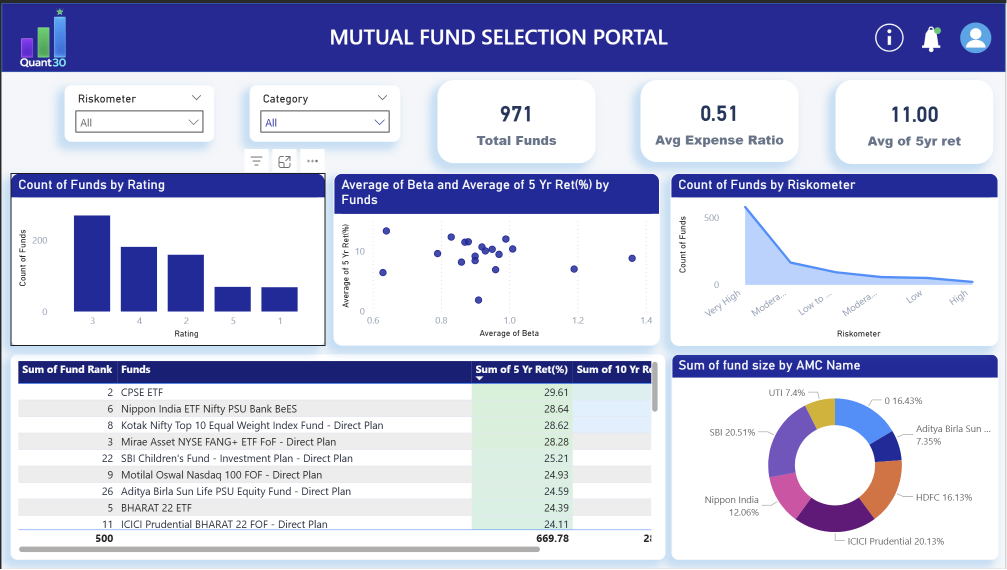

The dashboard page shown, as its layout file describes it:
{"tool":"powerbi","page":{"name":"Dashboard","canvas":[1280,720],"ordinal":0},"visuals":[{"type":"shape","box":[0,0,1280.3,88.2],"z":0},{"type":"image","box":[0,0,105.8,89.2],"z":1000},{"type":"card","fields":{"Values":["Measures (2).Total Funds"]},"box":[555.2,97.5,201.4,105.8],"z":2000},{"type":"card","fields":{"Values":["Measures (2).Avg of 5yr ret"]},"box":[1063,98,201,107],"z":3000},{"type":"card","fields":{"Values":["Measures (2).AVG Expense Ratio (%)"]},"box":[814,97.5,201.4,104.5],"z":4000},{"type":"donutChart","fields":{"Y":["Sum(Mutual_Funds.fund size)"],"Series":["Mutual_Funds.AMC Name"]},"box":[854.2,447.5,416.9,262.6],"z":5000},{"type":"stackedAreaChart","fields":{"Category":["Mutual_Funds.Riskometer"],"Y":["CountNonNull(Mutual_Funds.Funds)"]},"box":[852.9,216.7,418.2,220.6],"z":6000},{"type":"tableEx","fields":{"Values":["Sum(Mutual_Funds.Fund Rank)","Mutual_Funds.Funds","Sum(Mutual_Funds.5 Yr Ret(%))","Sum(Mutual_Funds.10 Yr Ret(%))","Mutual_Funds.Rating","Mutual_Funds.Riskometer"]},"box":[11.5,447.5,835.1,262.6],"z":7000},{"type":"slicer","fields":{"Values":["Mutual_Funds.Category"]},"box":[316.2,104.5,192.5,72.7],"z":8000},{"type":"slicer","fields":{"Values":["Mutual_Funds.Riskometer"]},"box":[80.3,104.5,191.2,72.7],"z":9000},{"type":"scatterChart","fields":{"X":["Avg(Mutual_Funds.Beta)"],"Y":["Avg(Mutual_Funds.5 Yr Ret(%))"],"Category":["Mutual_Funds.Funds"]},"box":[423.8,216.9,416.2,220],"z":10000},{"type":"clusteredColumnChart","fields":{"Y":["CountNonNull(Mutual_Funds.Funds)"],"Category":["Mutual_Funds.Rating"]},"box":[11.5,216.7,401.6,220.6],"z":11000},{"type":"textbox","title":"MUTUAL FUND SELECTION PORTAL","box":[413.3,24,554.7,42.7],"z":12000},{"type":"image","box":[1220,21.3,44,45.3],"z":13000},{"type":"image","box":[1163.3,20.8,45,45.8],"z":14000},{"type":"image","box":[1109.3,21.3,45.3,45.3],"z":15000}]}

Visuals, with their boxes in screenshot pixels (x1, y1, x2, y2), scaled from the page's 1280x720 canvas onto the 1007x570 screenshot:
shape: [0,0,1006,70]
image: [0,0,83,71]
card - Measures (2).Total Funds: [437,77,595,161]
card - Measures (2).Avg of 5yr ret: [836,78,994,162]
card - Measures (2).AVG Expense Ratio (%): [640,77,799,160]
donutChart - Sum(Mutual_Funds.fund size) x Mutual_Funds.AMC Name: [672,354,1000,562]
stackedAreaChart - Mutual_Funds.Riskometer x CountNonNull(Mutual_Funds.Funds): [671,172,1000,346]
tableEx - Sum(Mutual_Funds.Fund Rank) x Mutual_Funds.Funds: [9,354,666,562]
slicer - Mutual_Funds.Category: [249,83,400,140]
slicer - Mutual_Funds.Riskometer: [63,83,214,140]
scatterChart - Avg(Mutual_Funds.Beta) x Avg(Mutual_Funds.5 Yr Ret(%)): [333,172,661,346]
clusteredColumnChart - CountNonNull(Mutual_Funds.Funds) x Mutual_Funds.Rating: [9,172,325,346]
"MUTUAL FUND SELECTION PORTAL" textbox: [325,19,762,53]
image: [960,17,994,53]
image: [915,16,951,53]
image: [873,17,908,53]
